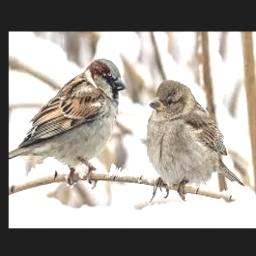Sparrow: (9, 58, 126, 189), (146, 79, 245, 203)
